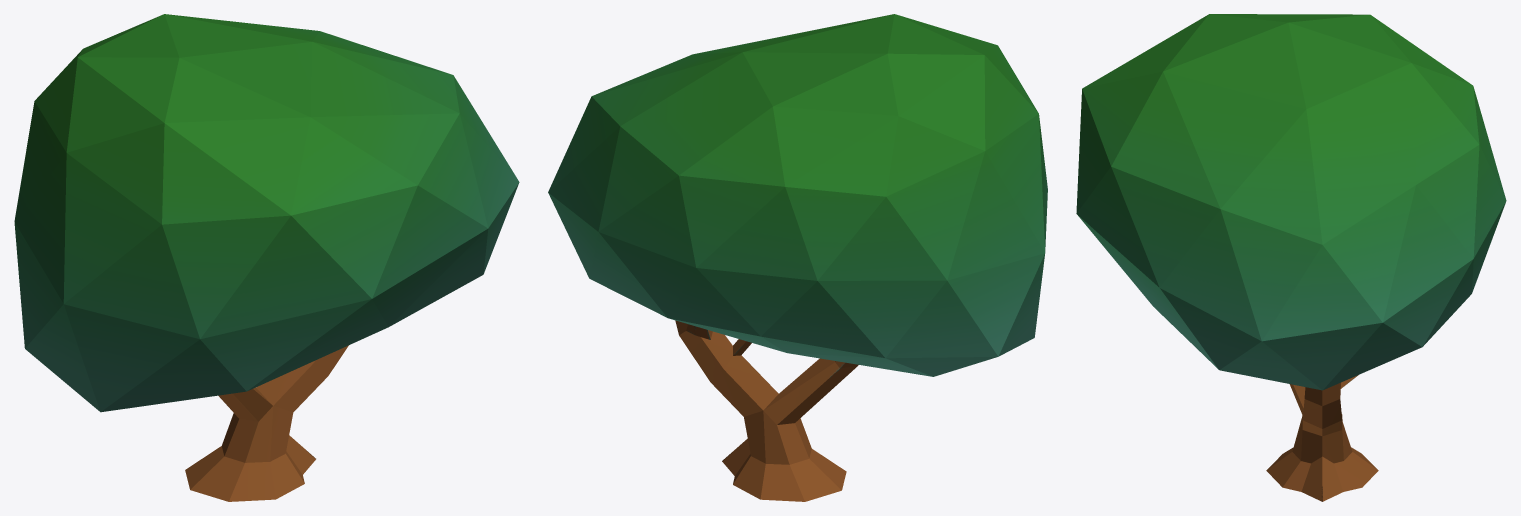
Rendered from OakTree_1.fbx.
The picture shows the model from 3 angles, left to right: view 1: azimuth 30°, elevation 25°; view 2: azimuth 150°, elevation 25°; view 3: azimuth 270°, elevation 25°; orthographic projection. The views are drawn at different scales.
Visible parts, largest first — view 1: OakTree_1; view 2: OakTree_1; view 3: OakTree_1.
Boxes of the visible parts, bbox=[...] form: OakTree_1: bbox=[14, 14, 519, 501]; OakTree_1: bbox=[548, 14, 1047, 501]; OakTree_1: bbox=[1076, 14, 1506, 501].
Bounding box in the file's own units: 526 × 490 × 464.
1 material, 1 textured.
